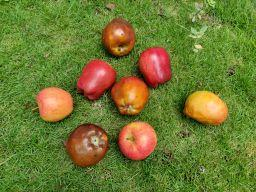apple: (30, 72, 81, 131), (63, 119, 119, 172), (115, 112, 163, 164), (75, 46, 117, 101), (181, 87, 233, 131), (96, 13, 142, 61), (133, 44, 179, 87), (111, 77, 154, 117)
